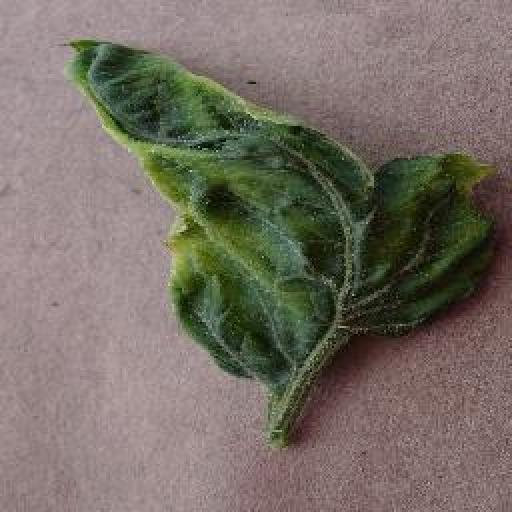disease_tomato: (59, 39, 495, 389)
